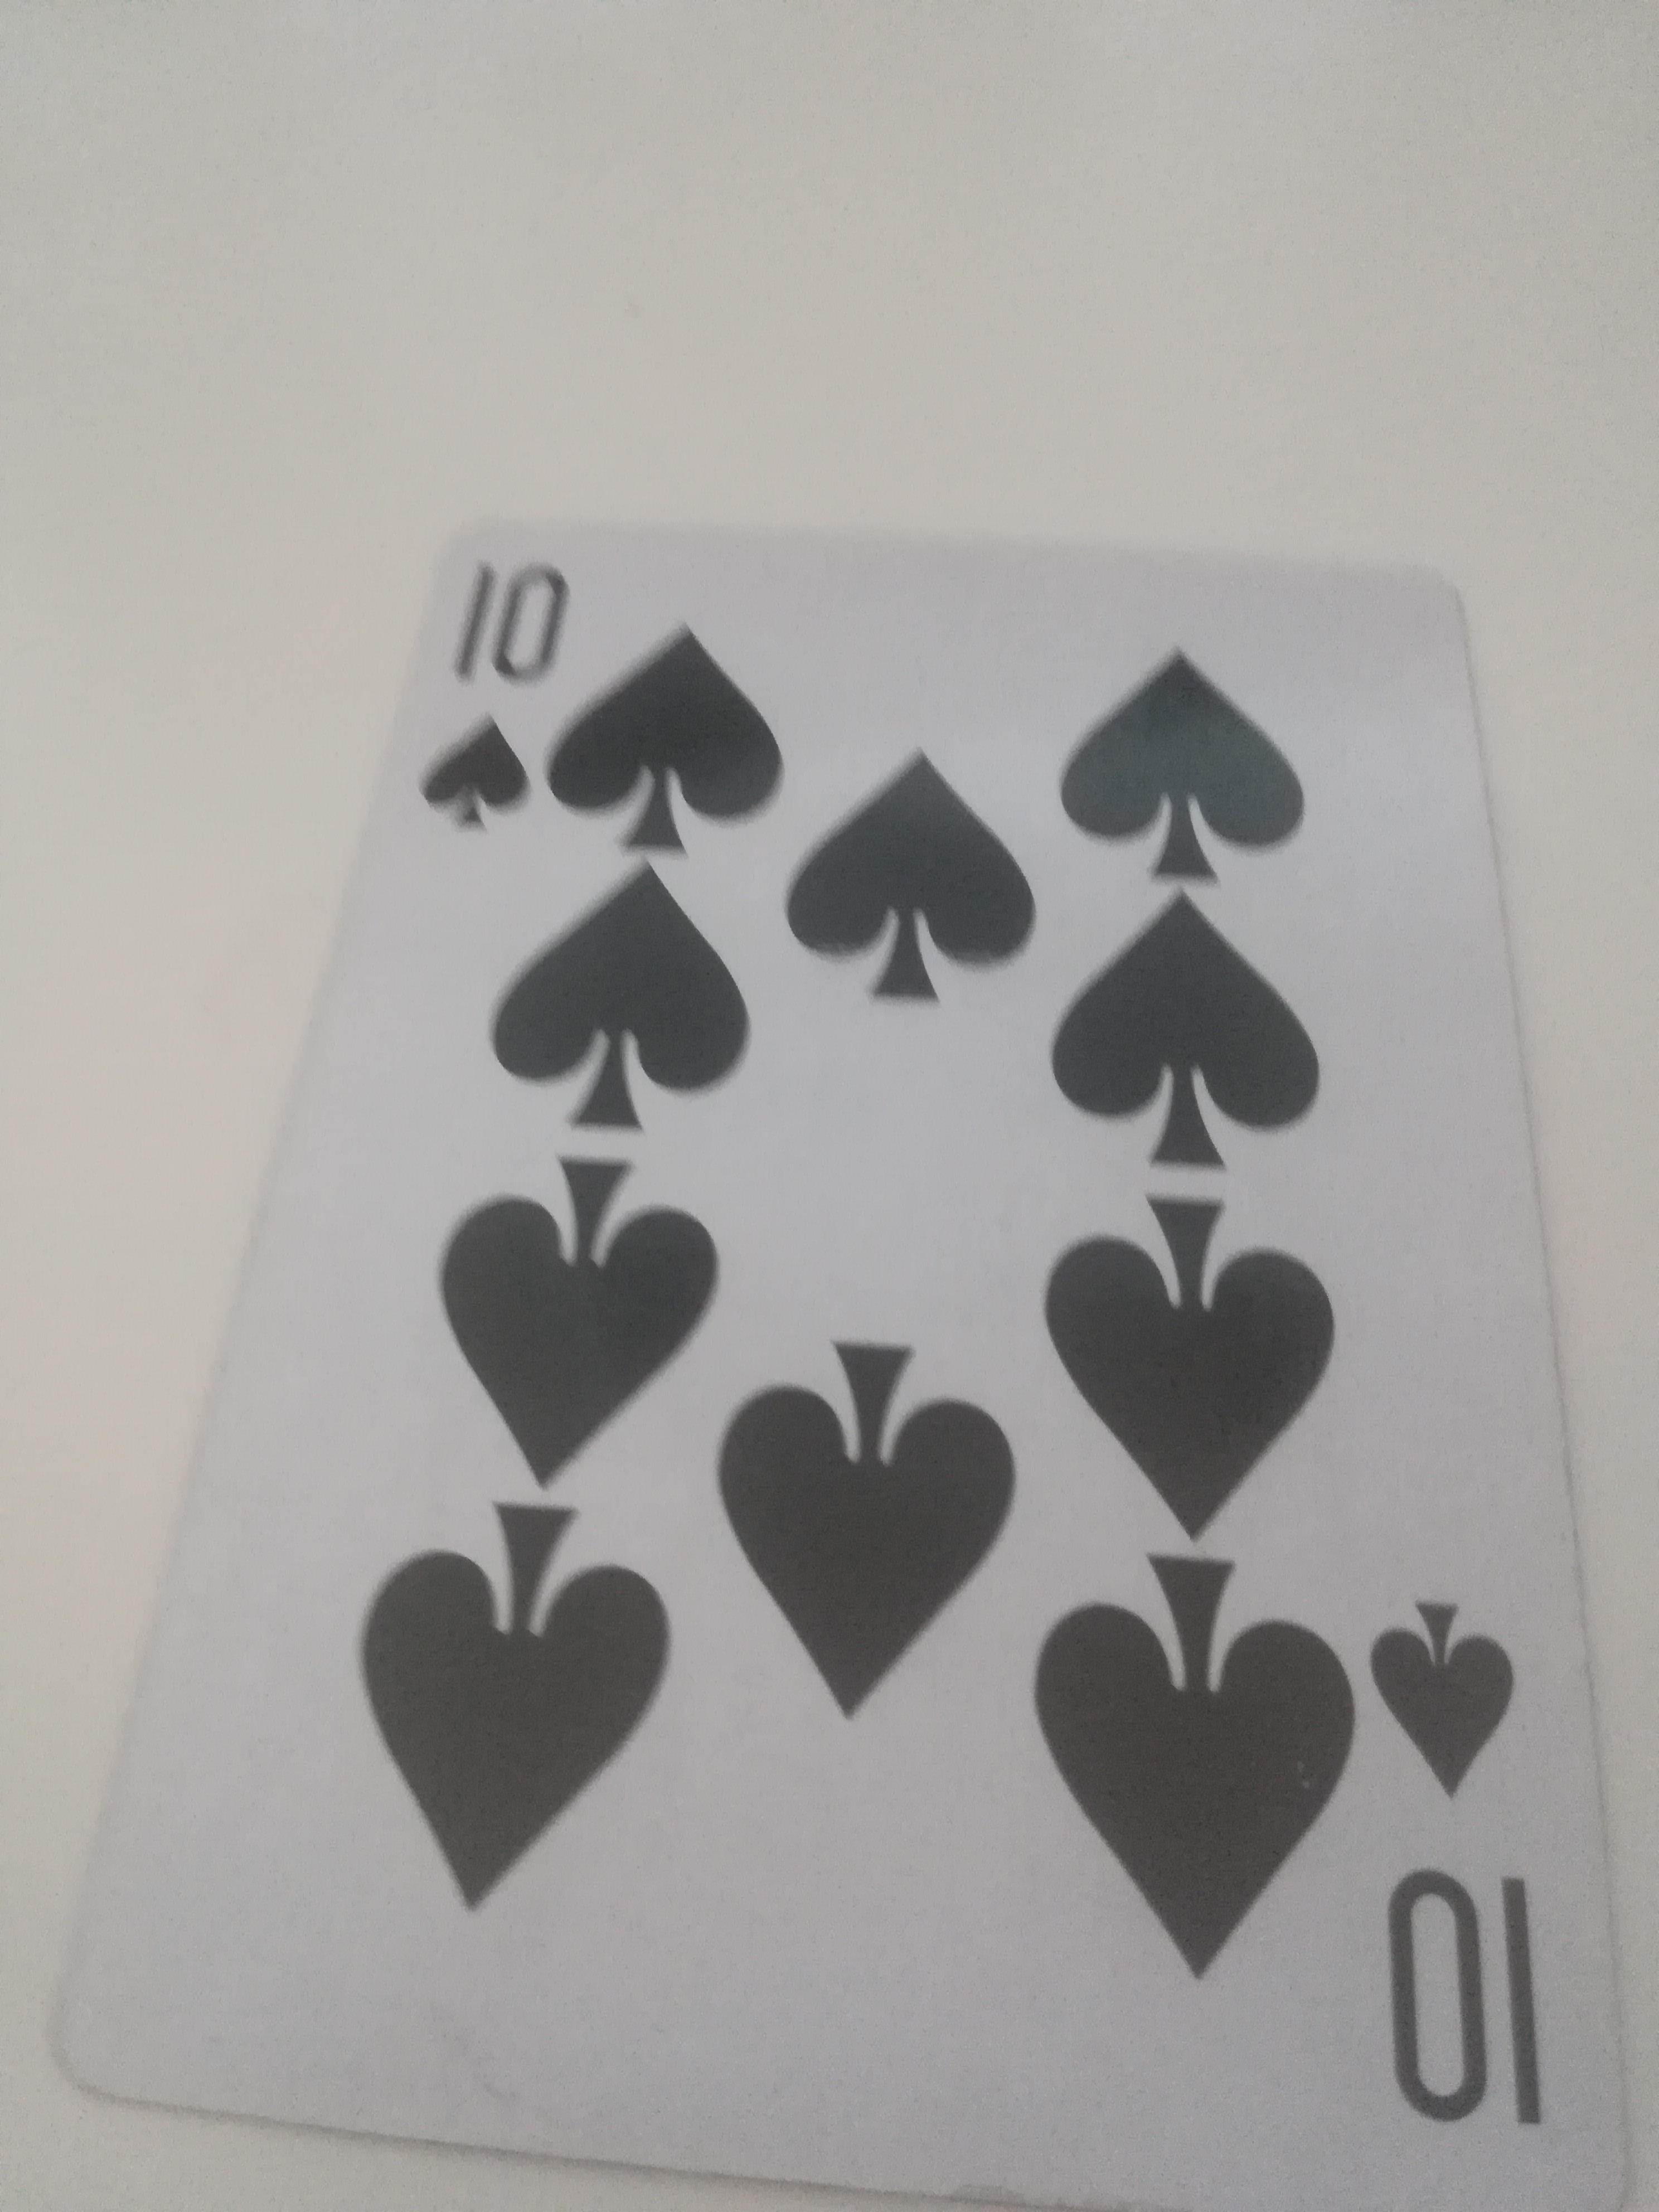10S: (58, 523, 1612, 2188)
